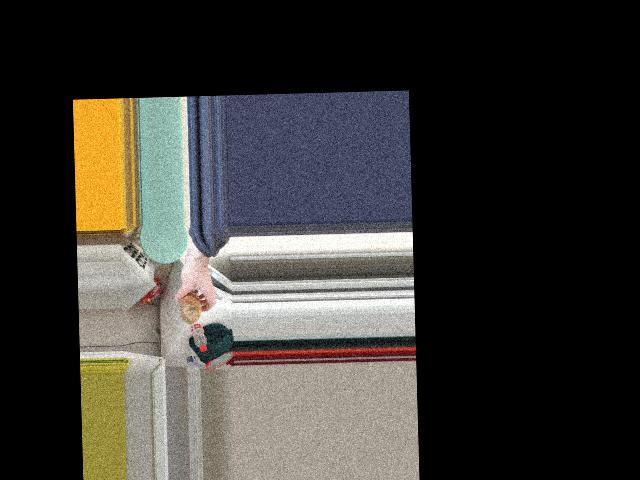sweet_potato: (176, 286, 207, 323)
